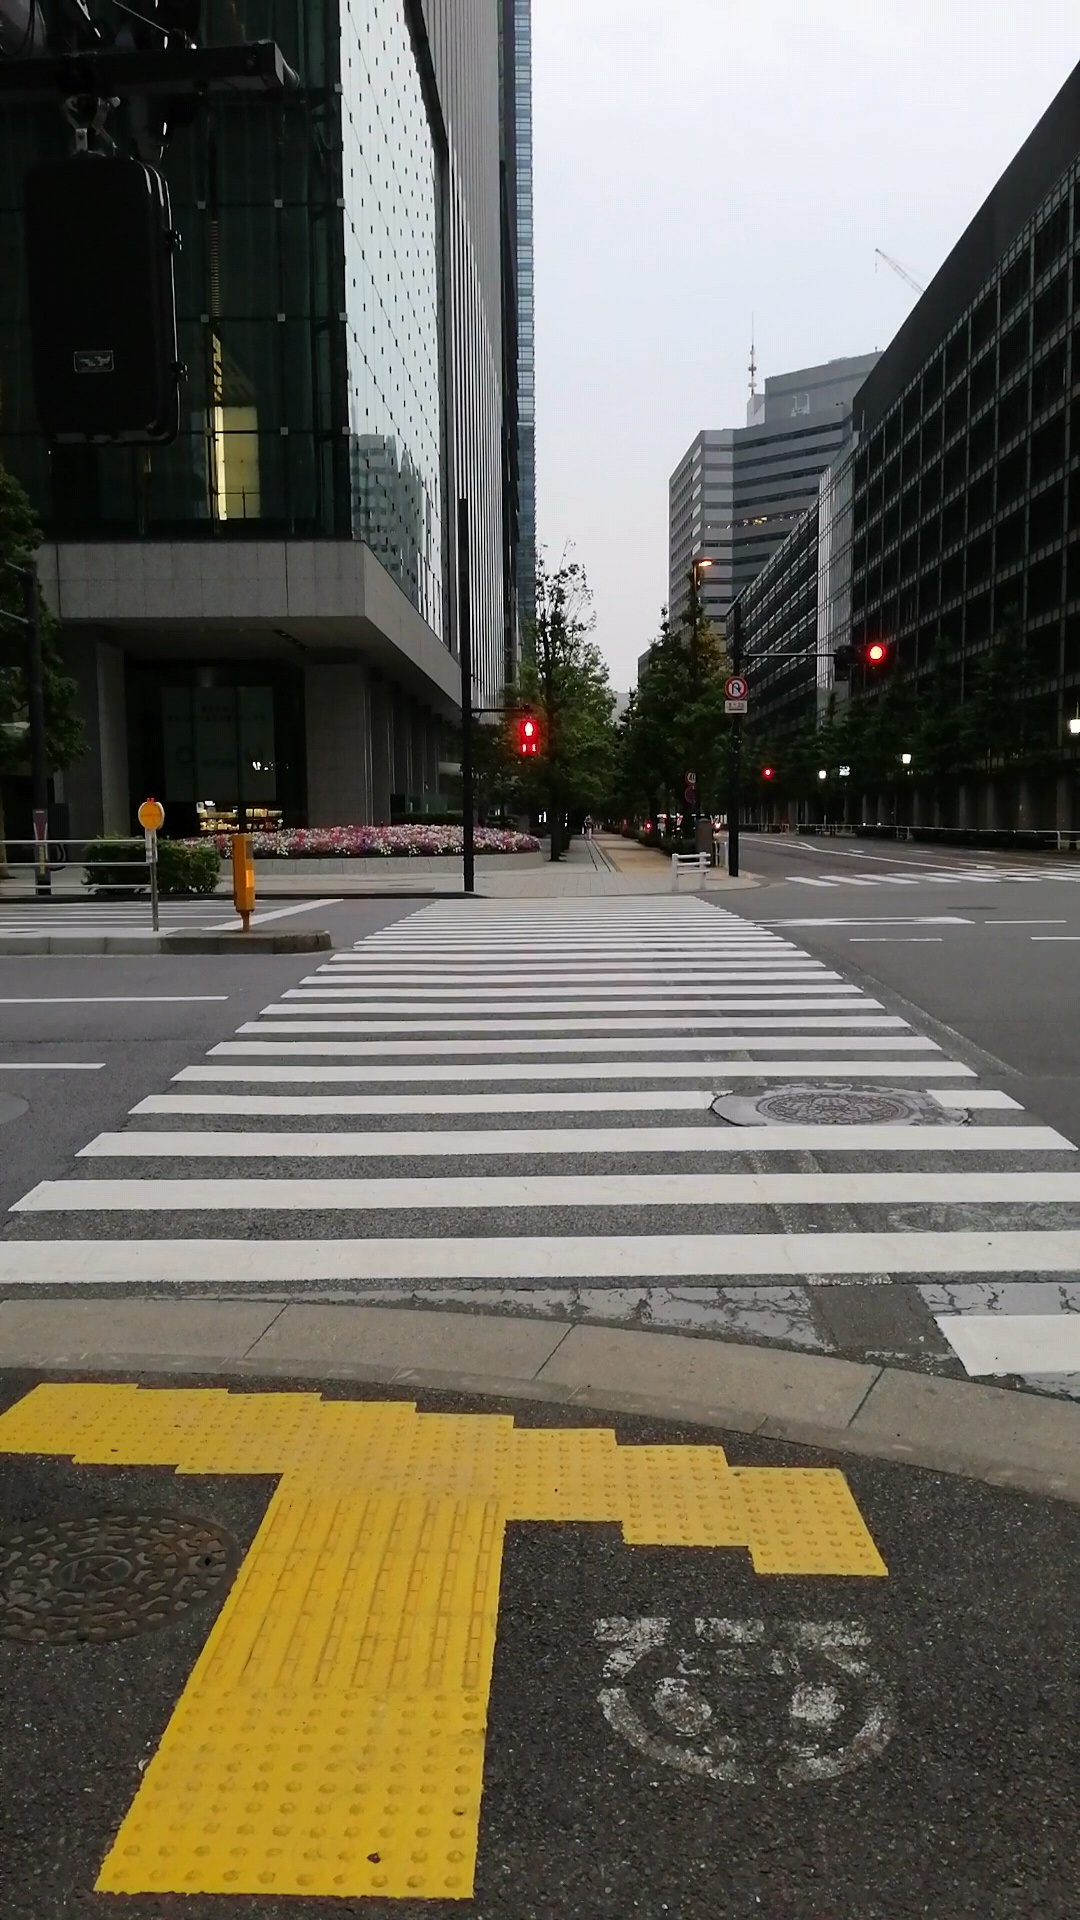red: (520, 717, 541, 756)
